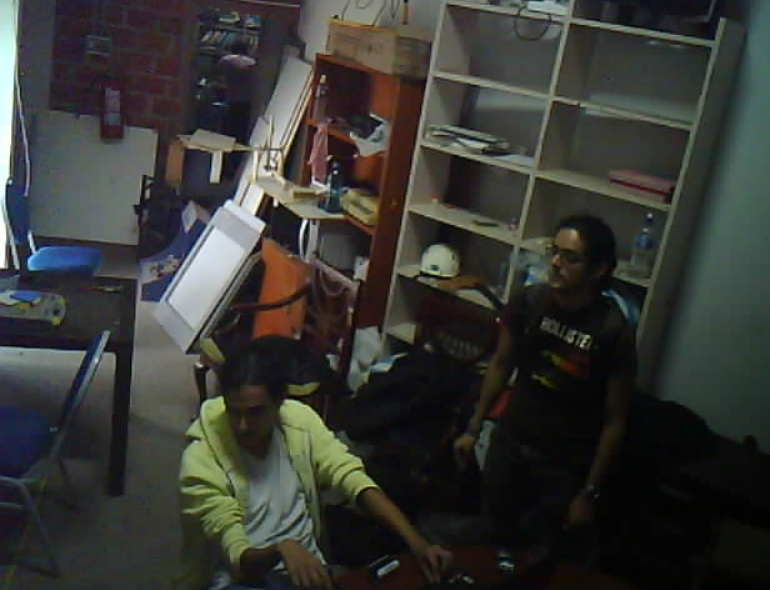person: (139, 332, 466, 590), (438, 199, 659, 554), (193, 25, 282, 148)
